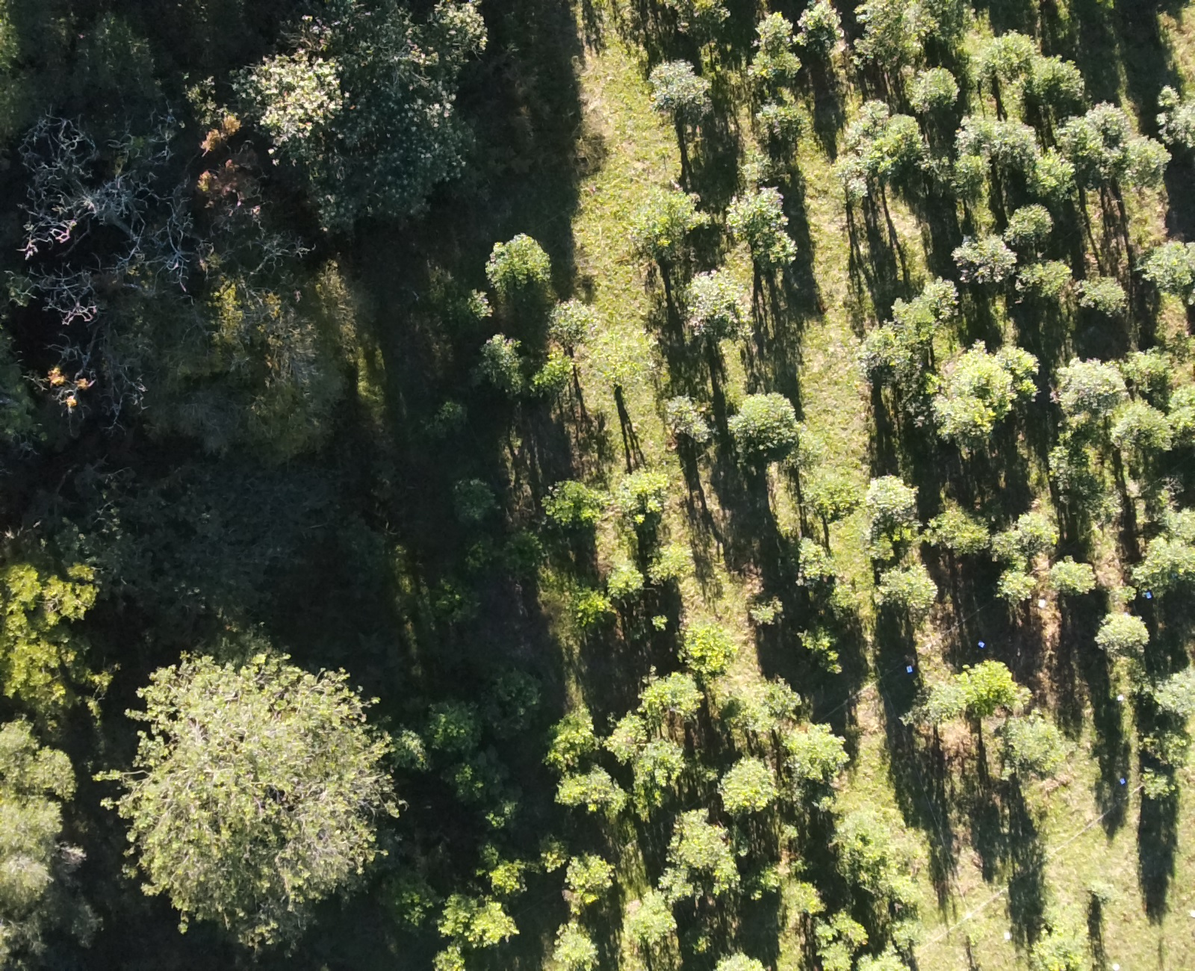erva: (671, 270, 762, 347), (612, 192, 705, 258), (667, 811, 739, 891), (996, 712, 1068, 788), (547, 766, 627, 834), (721, 391, 798, 459), (531, 703, 600, 778), (635, 64, 717, 125), (931, 349, 1016, 406), (491, 235, 560, 303), (944, 225, 1014, 291), (1052, 348, 1124, 412), (915, 400, 996, 456), (786, 723, 851, 789), (858, 117, 928, 178), (955, 650, 1019, 716), (1131, 531, 1194, 596), (861, 323, 923, 387), (541, 303, 603, 366), (744, 99, 815, 153), (791, 4, 854, 64), (860, 1, 913, 72), (622, 883, 677, 951), (896, 674, 964, 729), (926, 494, 986, 556), (716, 755, 779, 814), (1099, 407, 1168, 459), (743, 16, 795, 85), (1016, 152, 1082, 206), (721, 183, 789, 234), (861, 475, 913, 539), (555, 857, 617, 910), (979, 31, 1031, 94), (635, 739, 689, 799), (1118, 135, 1172, 195), (641, 663, 695, 722), (525, 346, 580, 403), (614, 468, 668, 526), (1002, 341, 1048, 409), (874, 562, 934, 614), (450, 467, 502, 527), (662, 388, 711, 451), (1070, 272, 1130, 323), (1008, 261, 1071, 309), (1035, 49, 1094, 100), (984, 115, 1044, 164), (1140, 240, 1194, 294), (791, 623, 848, 674), (881, 287, 929, 347), (541, 480, 598, 530), (555, 916, 606, 970), (901, 62, 951, 117), (1049, 114, 1099, 169), (1094, 609, 1152, 656), (480, 860, 539, 906), (1044, 546, 1101, 592), (1000, 202, 1058, 246), (1143, 668, 1194, 717), (836, 92, 879, 149), (1123, 341, 1173, 390), (685, 624, 733, 674), (656, 857, 705, 905), (946, 110, 999, 154), (913, 270, 961, 318), (809, 480, 854, 531), (471, 907, 523, 948), (536, 831, 580, 879), (478, 335, 526, 379), (708, 935, 768, 970), (792, 542, 834, 592), (1151, 90, 1194, 138), (1086, 96, 1132, 140), (648, 540, 695, 583), (1153, 491, 1194, 539), (1135, 727, 1189, 763), (752, 237, 809, 271), (822, 158, 866, 202), (576, 586, 616, 634), (1131, 768, 1185, 803), (991, 570, 1035, 612), (604, 704, 639, 756), (421, 706, 467, 745), (1014, 506, 1057, 547), (996, 517, 1028, 572), (785, 425, 822, 471), (438, 893, 479, 934), (608, 559, 646, 602), (949, 155, 990, 192), (415, 942, 468, 970), (743, 587, 780, 627), (809, 941, 860, 970), (1163, 393, 1194, 439), (823, 584, 856, 625), (807, 913, 836, 949), (842, 910, 874, 939), (1108, 578, 1137, 609)
